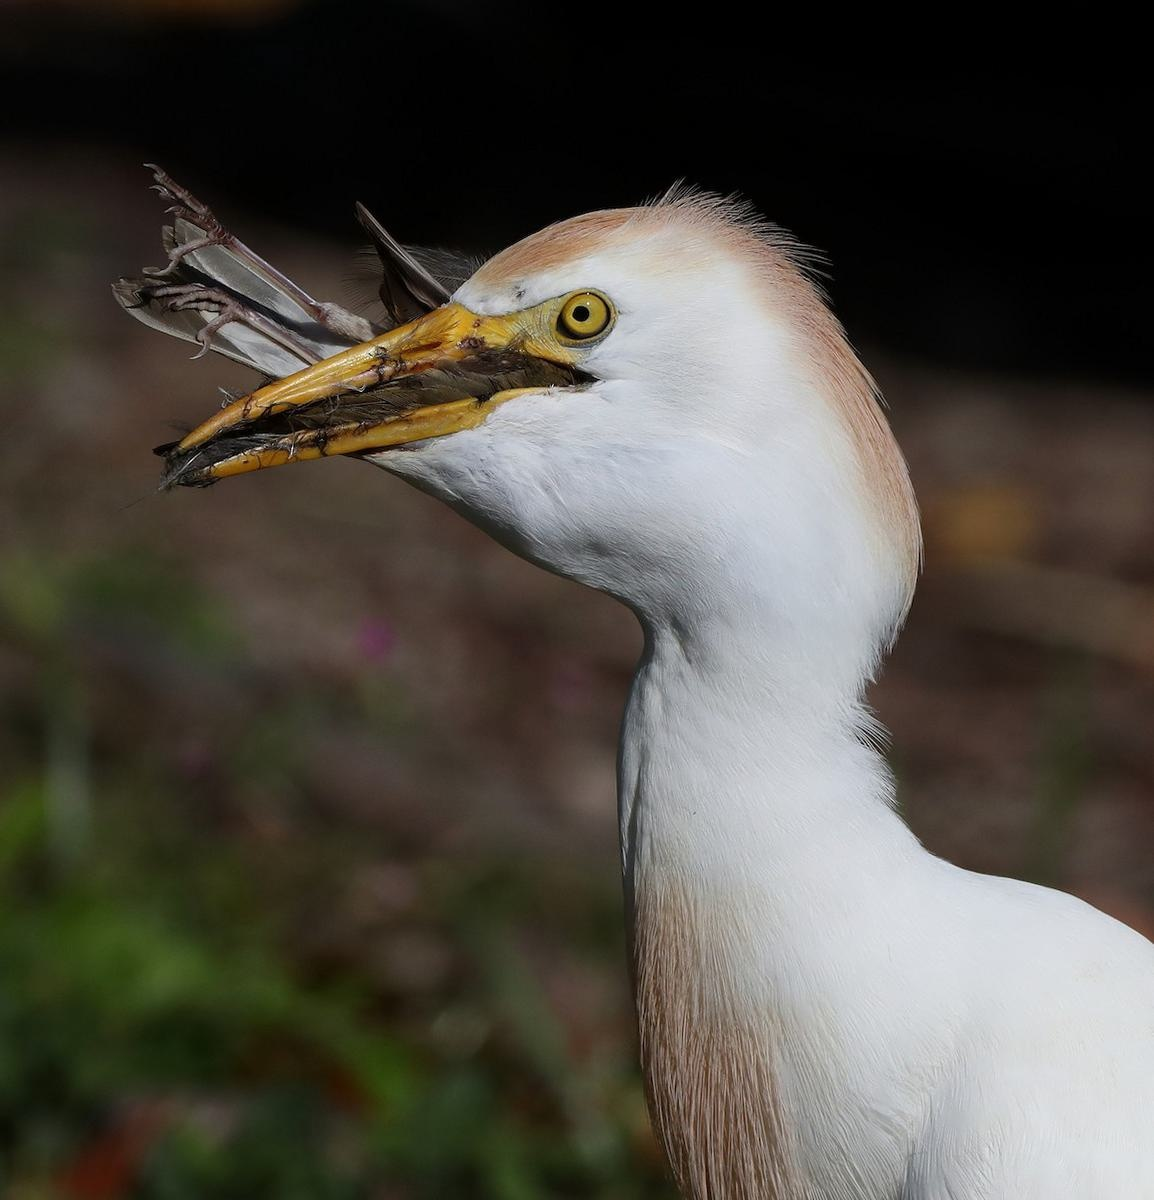egret: (136, 167, 1125, 1200)
